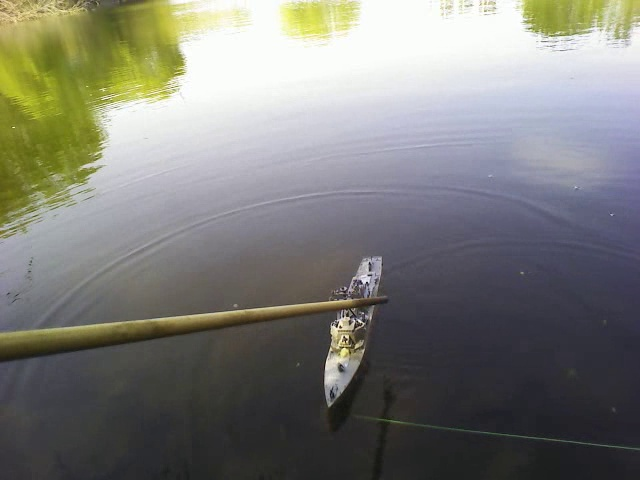warship: (309, 244, 390, 410)
